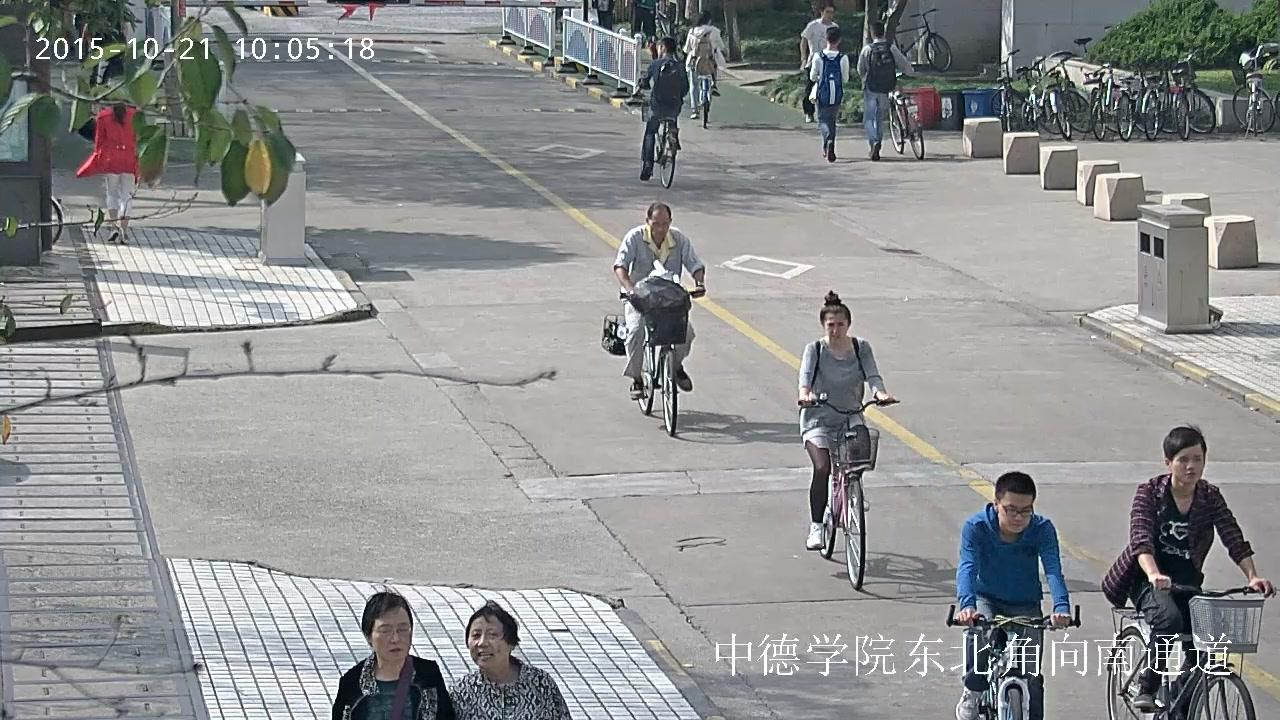face: (469, 615, 508, 666), (372, 607, 409, 659), (1000, 490, 1032, 530), (1172, 443, 1203, 483), (825, 311, 848, 340), (651, 209, 669, 236), (824, 6, 833, 20), (658, 44, 662, 56)
